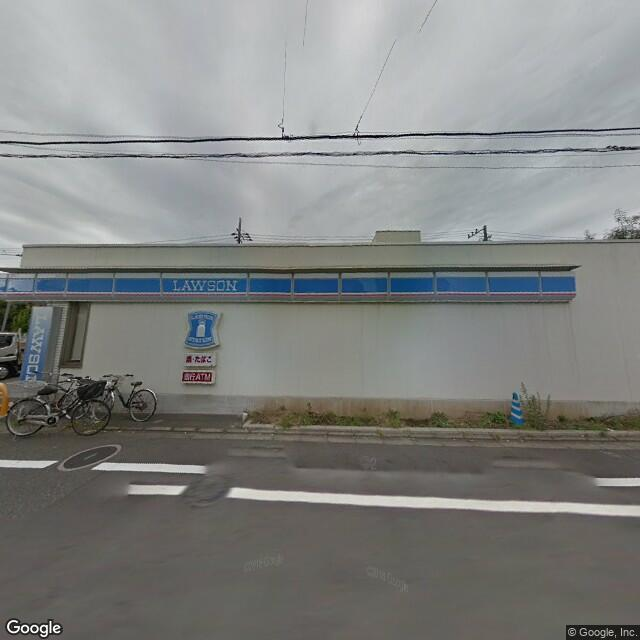lawson: (1, 265, 578, 300), (20, 303, 47, 384), (185, 308, 218, 349)
